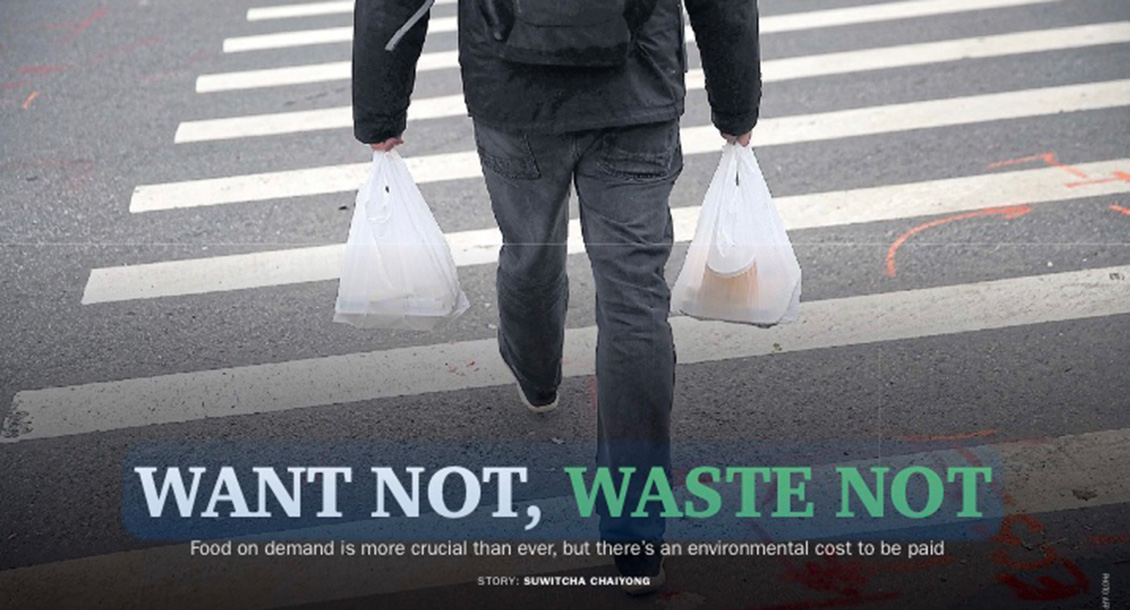plastic_bagwdw: (645, 94, 884, 404), (261, 93, 483, 382)
